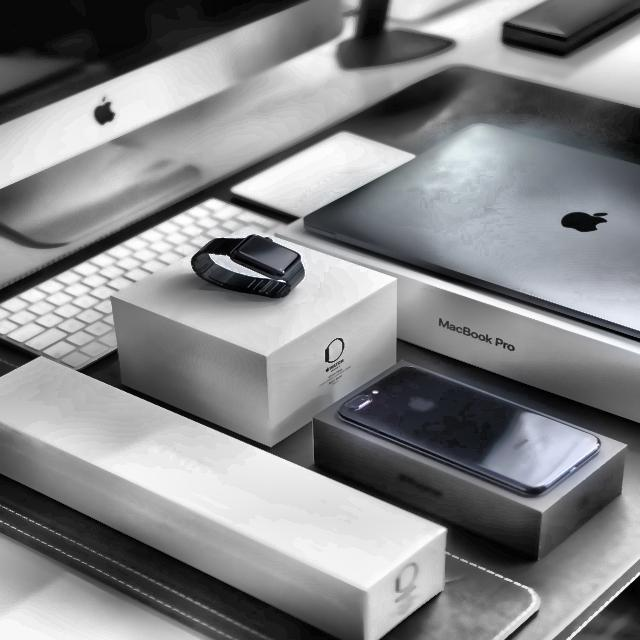laptop: (304, 125, 640, 336)
